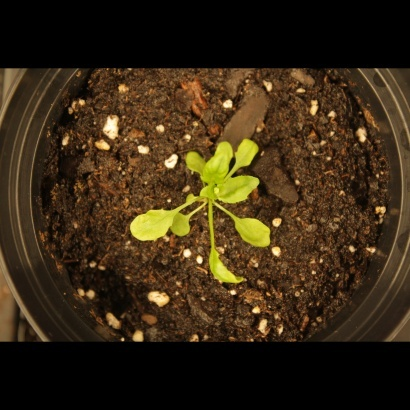leaf: (124, 206, 178, 247), (206, 244, 246, 293), (231, 214, 276, 254), (202, 138, 237, 186), (214, 174, 264, 205), (232, 137, 264, 172), (167, 210, 194, 242), (181, 151, 204, 174)
